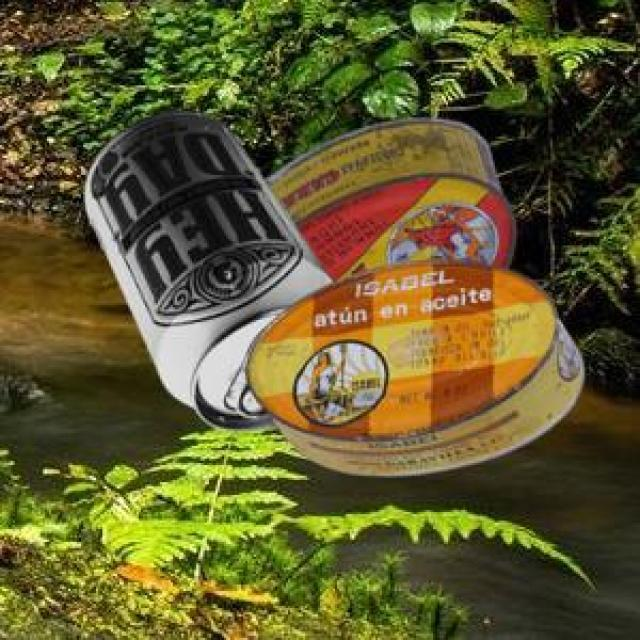Can: (82, 108, 330, 428), (242, 257, 581, 473), (261, 116, 513, 281)
